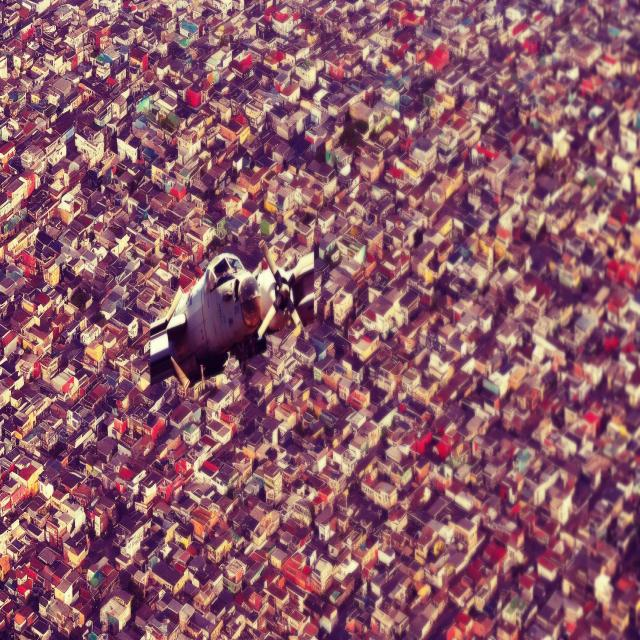airplane: (148, 236, 314, 390)
